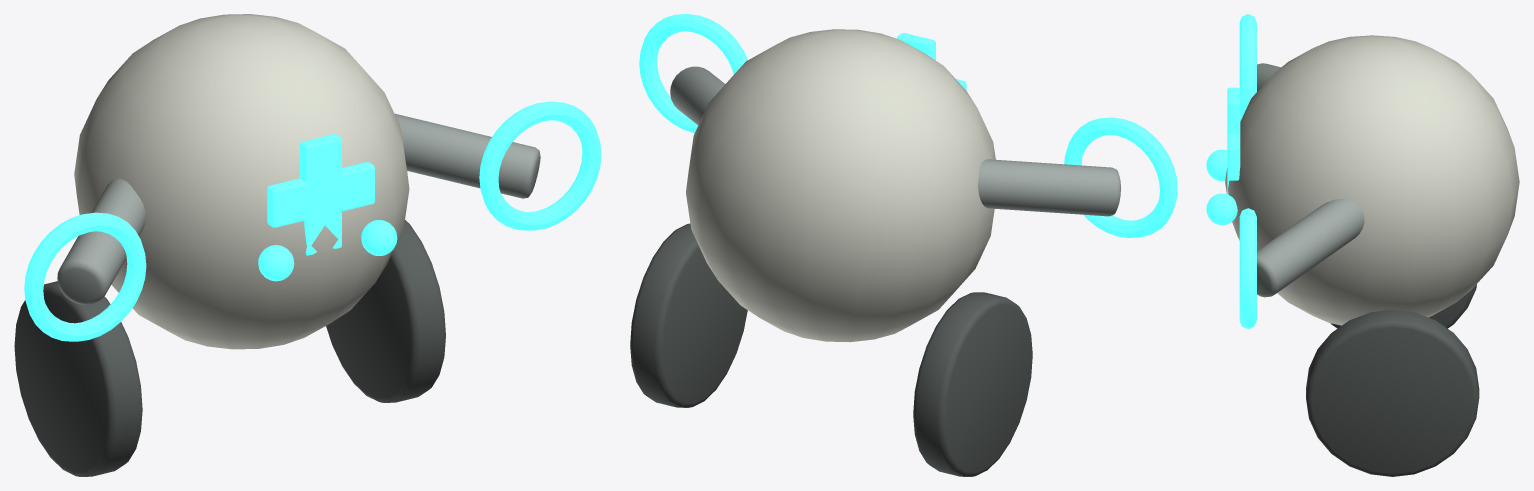
Rendered from card_repair.glb.
The picture shows the model from 3 angles, left to right: view 1: azimuth 30°, elevation 25°; view 2: azimuth 150°, elevation 25°; view 3: azimuth 270°, elevation 25°; orthographic projection. The views are drawn at different scales.
Visible parts, largest first — view 1: card_repair; view 2: card_repair; view 3: card_repair.
Boxes of the visible parts, box(x1,y1,x2,y2) form: card_repair: box(14, 14, 601, 476); card_repair: box(630, 14, 1177, 476); card_repair: box(1206, 14, 1519, 476).
Size of the model in its own units: 2.01 by 1.37 by 1.08.
